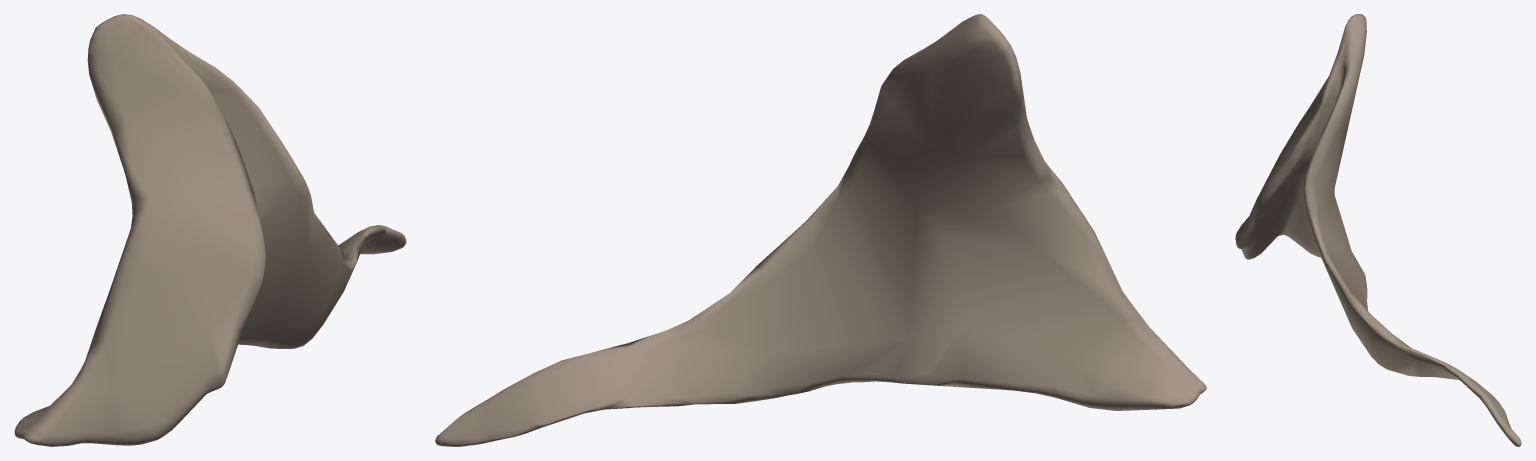
File: Meso-appendix.glb
3 views of the same model, side by side, from view 1: azimuth 30°, elevation 25°; view 2: azimuth 150°, elevation 25°; view 3: azimuth 270°, elevation 25° (orthographic). The views are drawn at different scales.
Parts seen in each view (by area): view 1: Meso-appendix_grp1.960; view 2: Meso-appendix_grp1.960; view 3: Meso-appendix_grp1.960.
Boxes of the visible parts, x1,y1,x2,y2 form: Meso-appendix_grp1.960: (14, 14, 406, 446); Meso-appendix_grp1.960: (435, 14, 1206, 446); Meso-appendix_grp1.960: (1235, 14, 1521, 446).
Bounding box in the file's own units: 0.0633 × 0.0454 × 0.0399.
